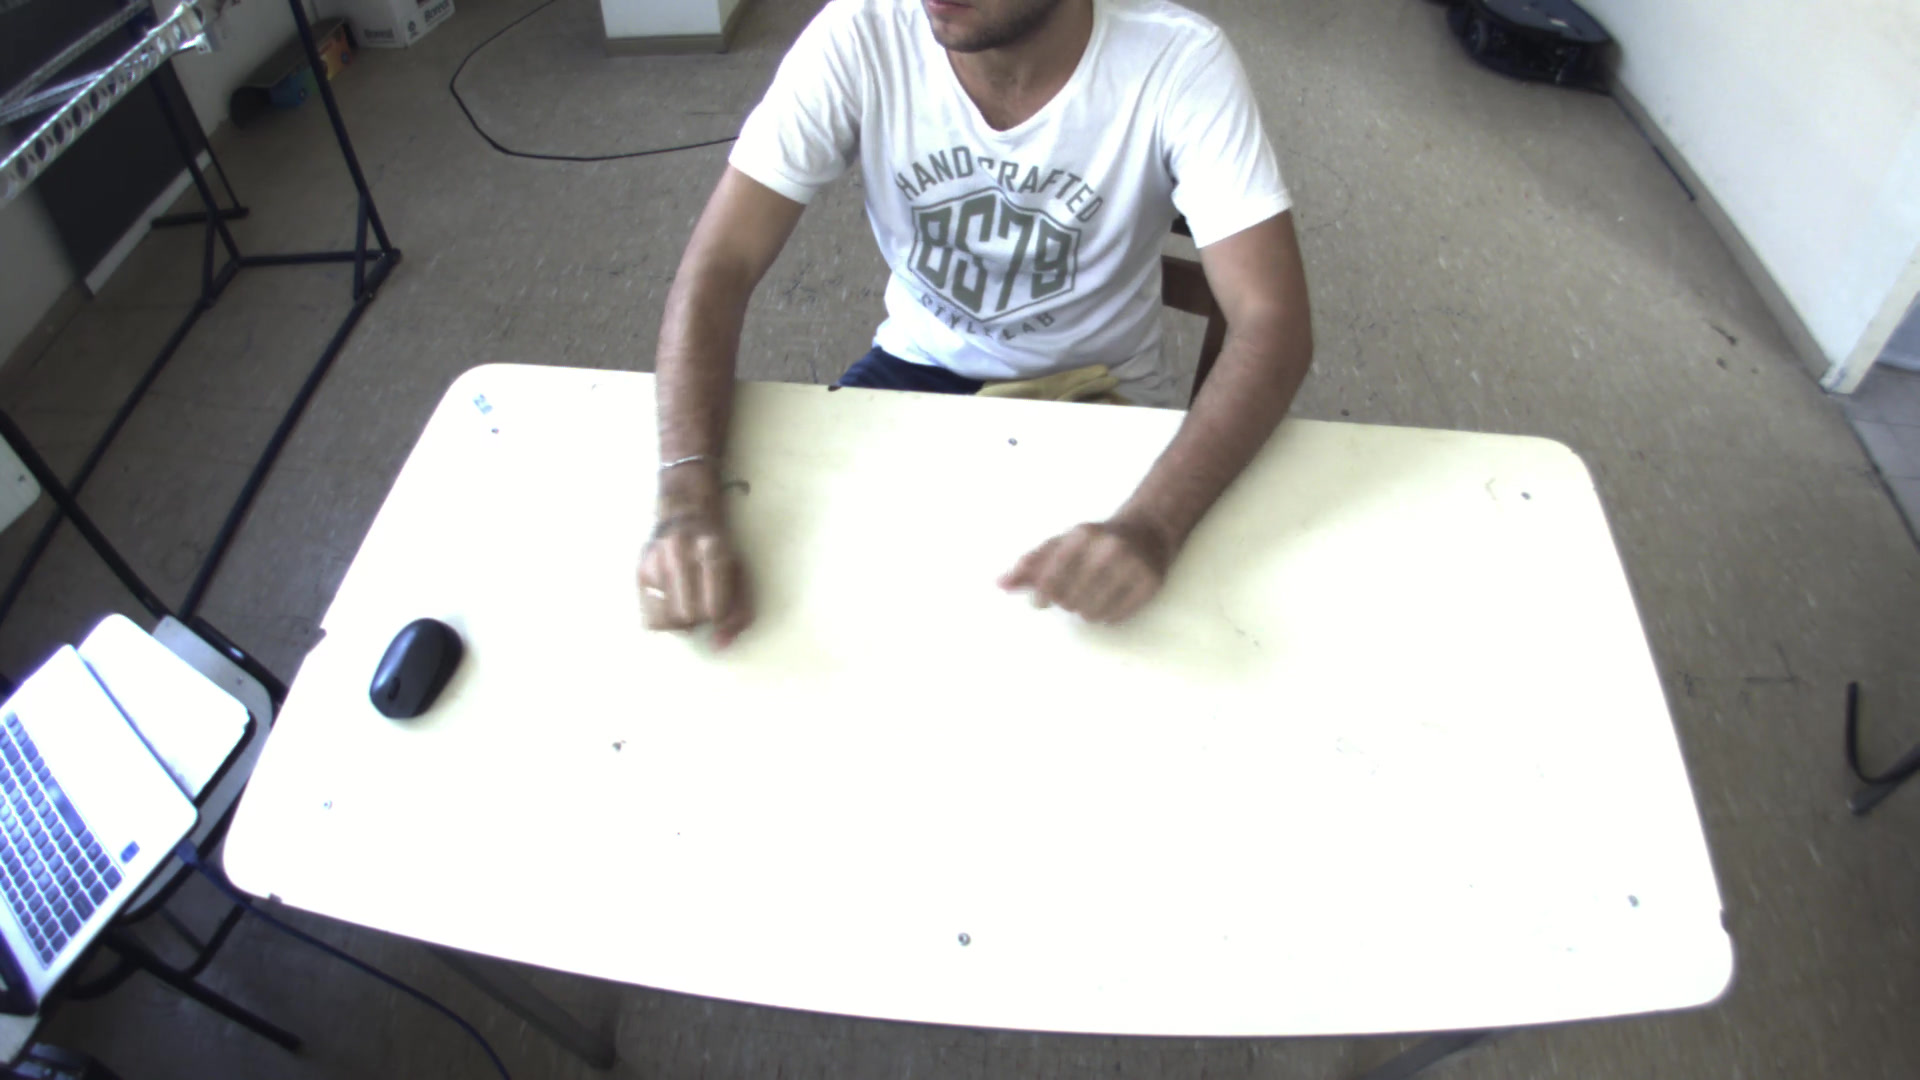hand: (986, 502, 1178, 626), (622, 483, 752, 638)
